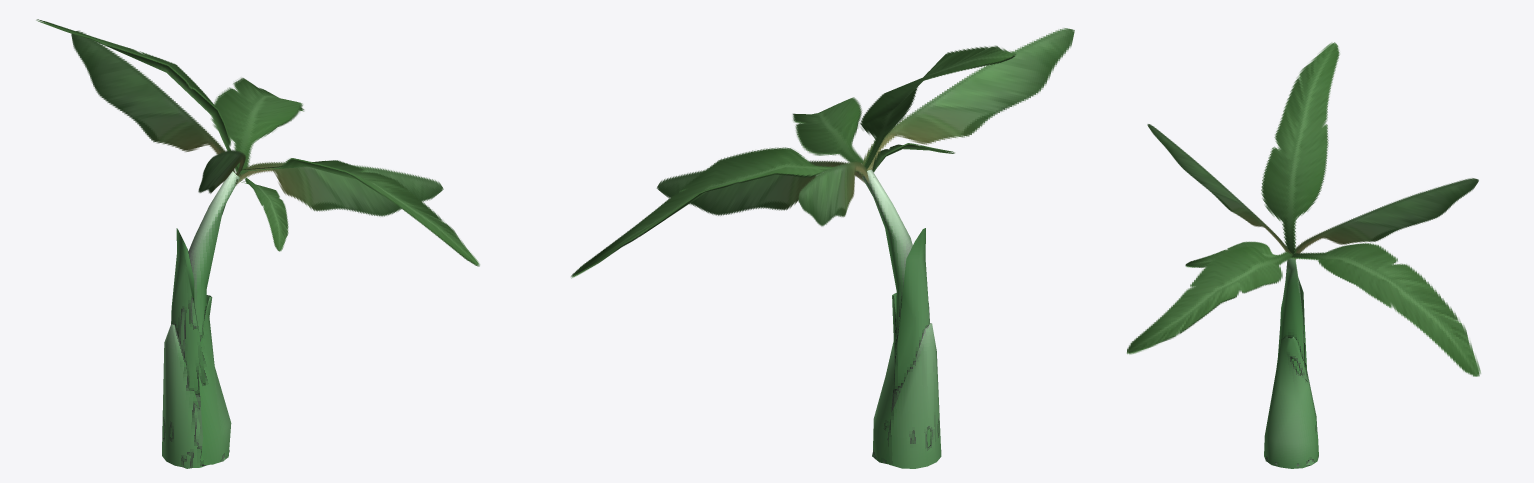
File: pohon_pisang.glb
3 renders of one model, left to right at view 1: azimuth 30°, elevation 25°; view 2: azimuth 150°, elevation 25°; view 3: azimuth 270°, elevation 25°, orthographic. The views are drawn at different scales.
Visible parts, largest first — view 1: pohon_pisang_1.001; view 2: pohon_pisang_1.001; view 3: pohon_pisang_1.001.
Boxes of the visible parts, <box> form: pohon_pisang_1.001: <box>36,19,479,468</box>; pohon_pisang_1.001: <box>571,28,1074,468</box>; pohon_pisang_1.001: <box>1127,42,1480,468</box>.
Size of the model in its own units: 6.74 by 6.98 by 6.68.
Materials: 3 (3 with a texture image).
